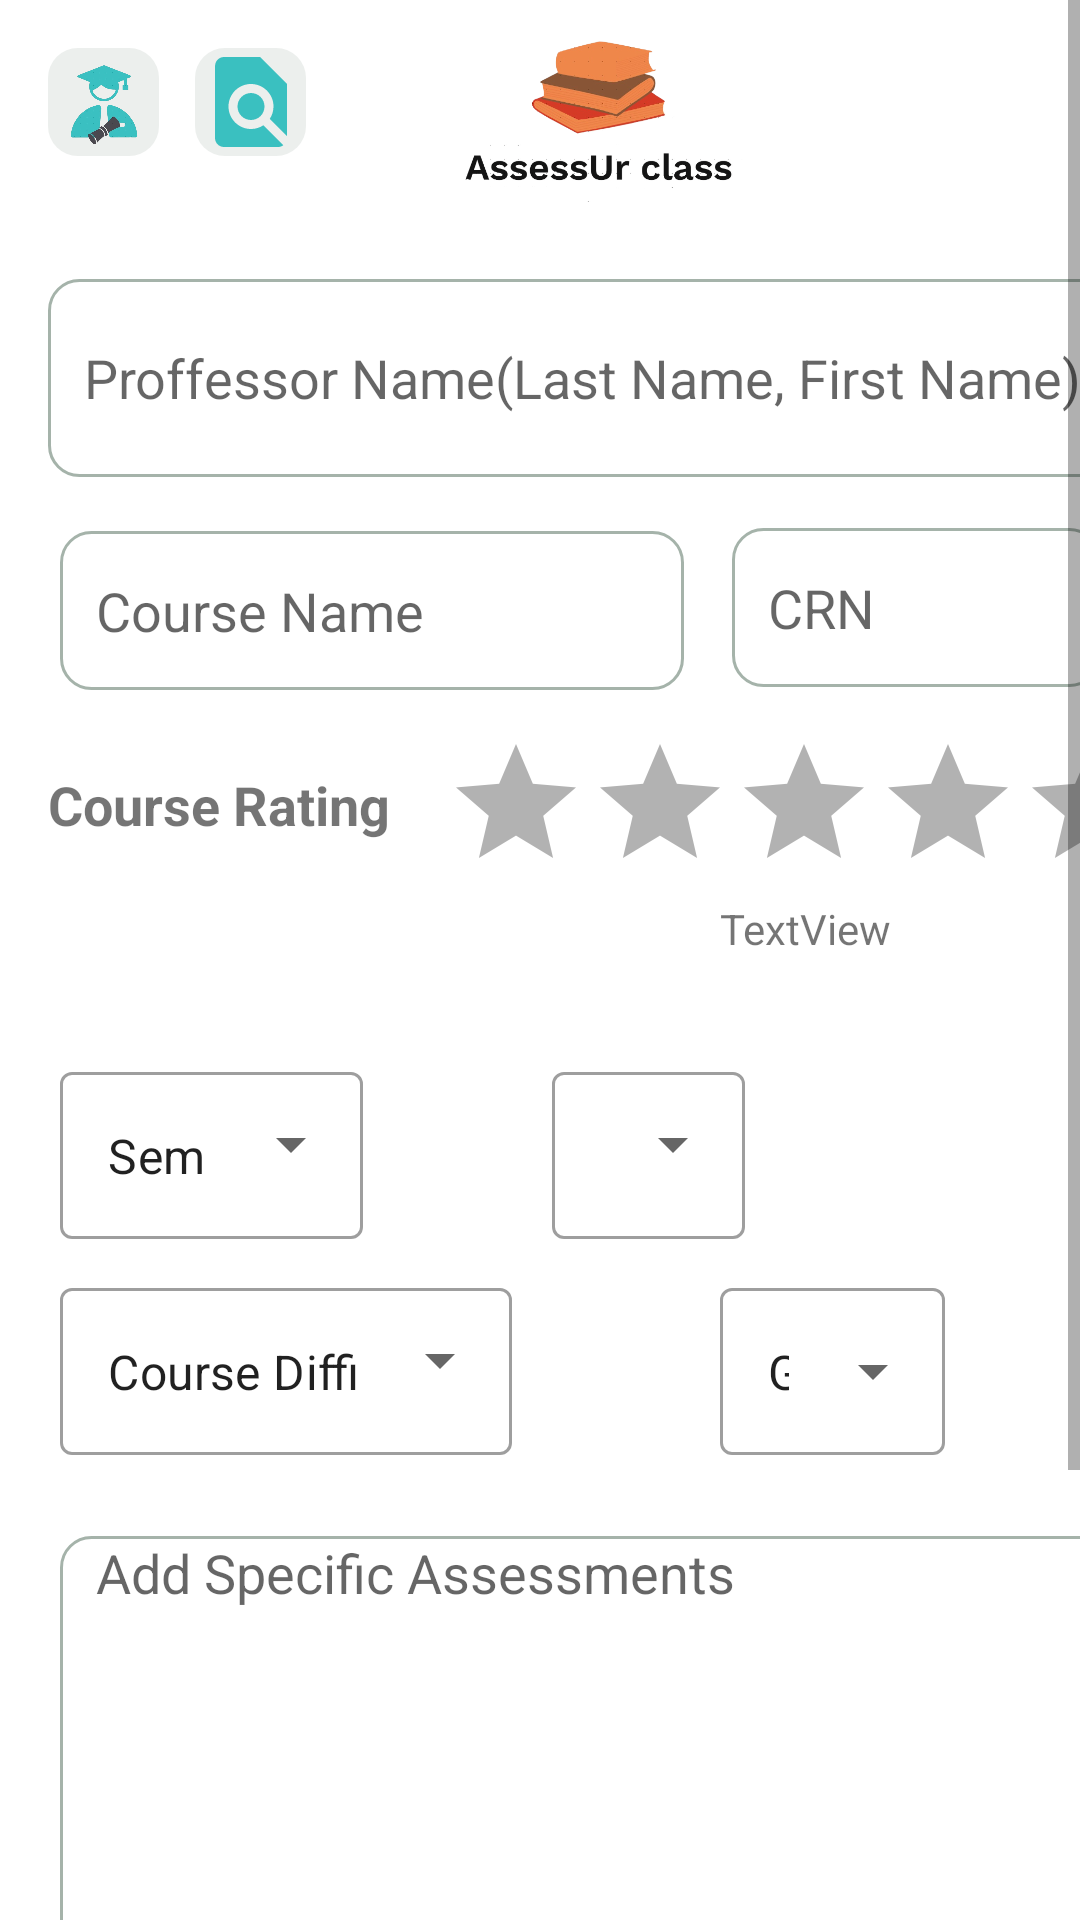

Where icons sit on this 1080px x 1920px app screen, as (x1, y1, x2, y2):
find assessment: (215, 57, 287, 147)
